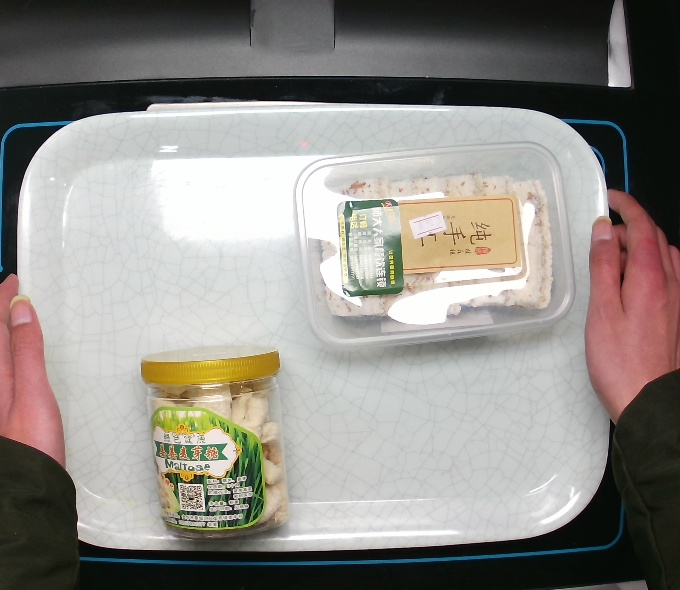wcq-GuiHuaGao: (287, 136, 581, 350)
wcq-MaiYaTang: (135, 339, 296, 544)
